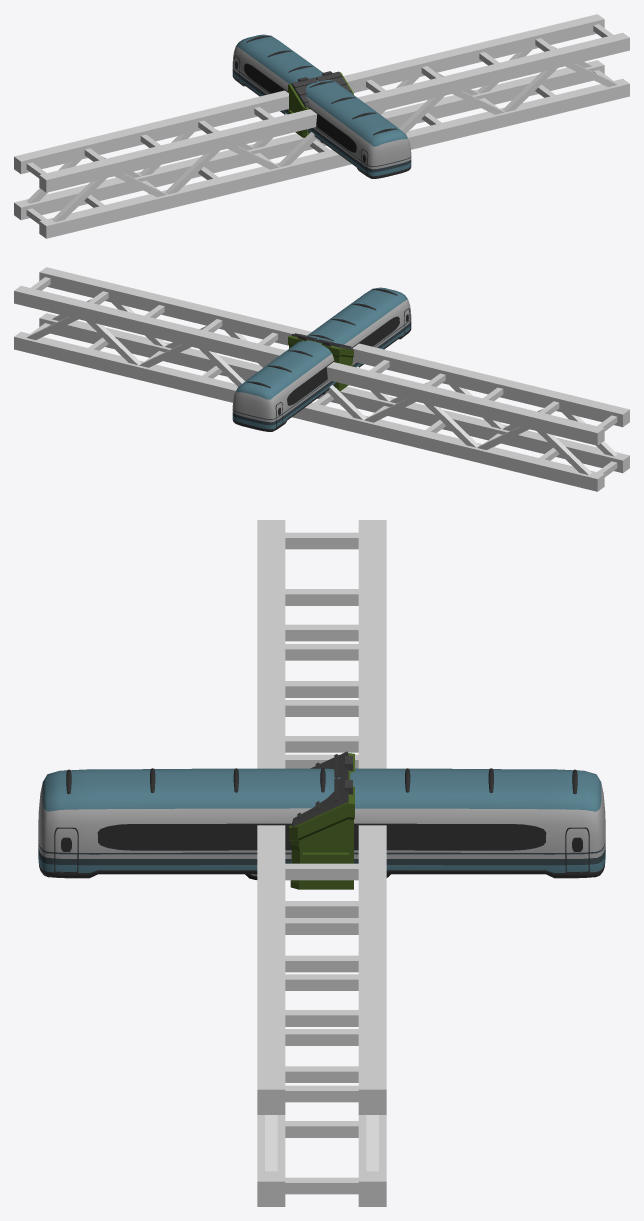
File: obstacles.glb
3 renders of one model, top to bottom at view 1: azimuth 30°, elevation 25°; view 2: azimuth 150°, elevation 25°; view 3: azimuth 270°, elevation 25°, orthographic. The views are drawn at different scales.
Visible parts, largest first — view 1: Cube.002, Cube.001, HighspeedTrain_Wagon, Cube.003, Cube, Cube.004, Cube.007, Cube.005, TrashContainer, Cube.006, Cube.009, Cube.010 (+4 smaller); view 2: Cube.003, Cube, HighspeedTrain_Wagon, Cube.002, Cube.001, Cube.004, Cube.007, Cube.005, Cube.006, TrashContainer, Cube.009, Cube.010 (+4 smaller); view 3: HighspeedTrain_Wagon, Cube.003, Cube.002, TrashContainer, Cube.024, Cube.009, Cube.025, Cube.010, Cube.026, Cube, Cube.001, Cube.004 (+1 smaller).
Part boxes in pixels (x1,y1,x2,y2): Cube.002: (39, 32, 629, 192); Cube.001: (39, 78, 629, 238); HighspeedTrain_Wagon: (232, 34, 411, 178); Cube.003: (14, 14, 604, 174); Cube: (14, 60, 604, 220); Cube.004: (26, 46, 616, 221); Cube.007: (139, 72, 504, 194); Cube.005: (100, 49, 557, 197); TrashContainer: (288, 71, 353, 137); Cube.006: (216, 77, 444, 169); Cube.009: (84, 38, 555, 207); Cube.010: (198, 66, 441, 179); Cube.003: (14, 285, 604, 445); Cube: (14, 331, 604, 491); HighspeedTrain_Wagon: (232, 287, 411, 431); Cube.002: (39, 267, 629, 427); Cube.001: (39, 313, 629, 473); Cube.004: (27, 299, 617, 474); Cube.007: (139, 325, 504, 447); Cube.005: (86, 302, 543, 450); Cube.006: (199, 330, 427, 422); TrashContainer: (288, 333, 353, 391); Cube.009: (88, 291, 559, 460); Cube.010: (202, 319, 445, 432); HighspeedTrain_Wagon: (38, 768, 605, 878); Cube.003: (358, 520, 386, 1114); Cube.002: (257, 520, 285, 1114); TrashContainer: (289, 751, 354, 889); Cube.024: (285, 532, 358, 1194); Cube.009: (285, 589, 358, 1137); Cube.025: (285, 644, 358, 1082); Cube.010: (285, 700, 358, 1026); Cube.026: (285, 754, 358, 972); Cube: (358, 1115, 386, 1206); Cube.001: (257, 1115, 285, 1206); Cube.004: (265, 1115, 378, 1171).
Bounding box in the file's own units: 26.56 × 3.27 × 11.18.
